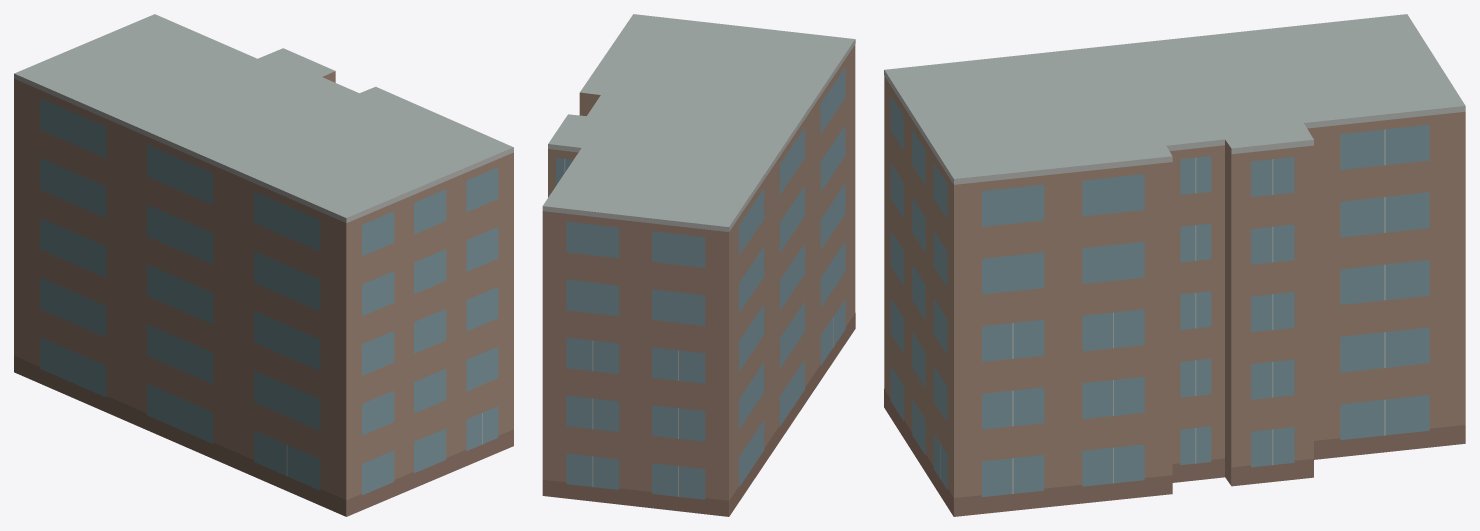
File: survey-upis-32938821.glb
3 renders of one model, left to right at view 1: azimuth 30°, elevation 25°; view 2: azimuth 150°, elevation 25°; view 3: azimuth 270°, elevation 25°, orthographic. The views are drawn at different scales.
Visible parts, largest first — view 1: survey-upis-32938821.tmp; view 2: survey-upis-32938821.tmp; view 3: survey-upis-32938821.tmp.
Boxes of the visible parts, <box> form: survey-upis-32938821.tmp: <box>14,14,513,516</box>; survey-upis-32938821.tmp: <box>542,14,855,516</box>; survey-upis-32938821.tmp: <box>884,14,1465,516</box>.
Bounding box in the file's own units: 15 × 14.3 × 22.32.
